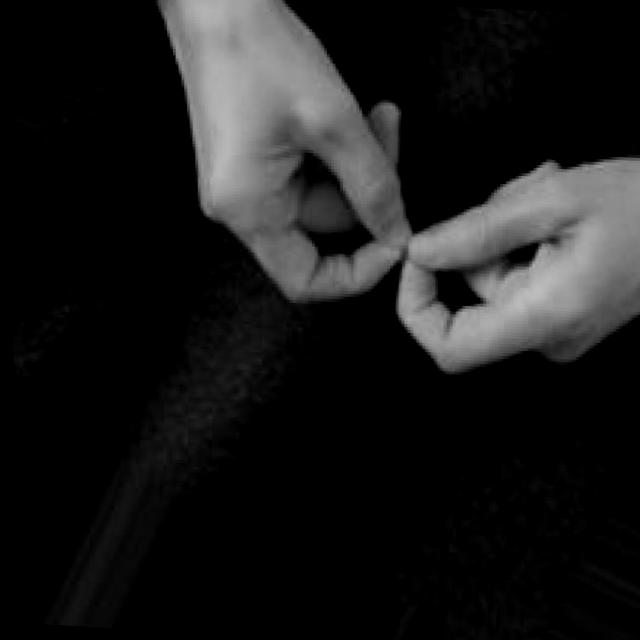B: (109, 0, 640, 381)
